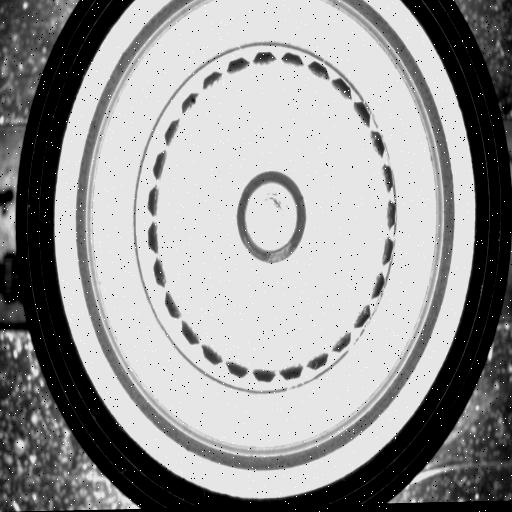gear: (148, 50, 396, 385)
